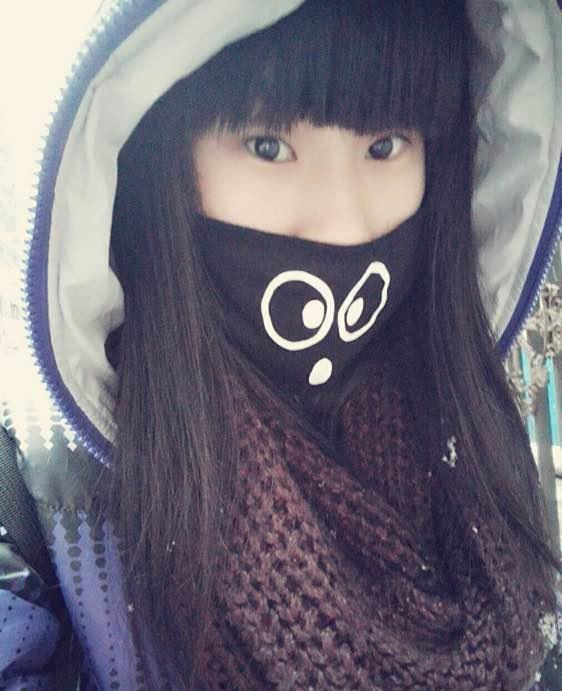WRONG: (184, 91, 452, 359)
